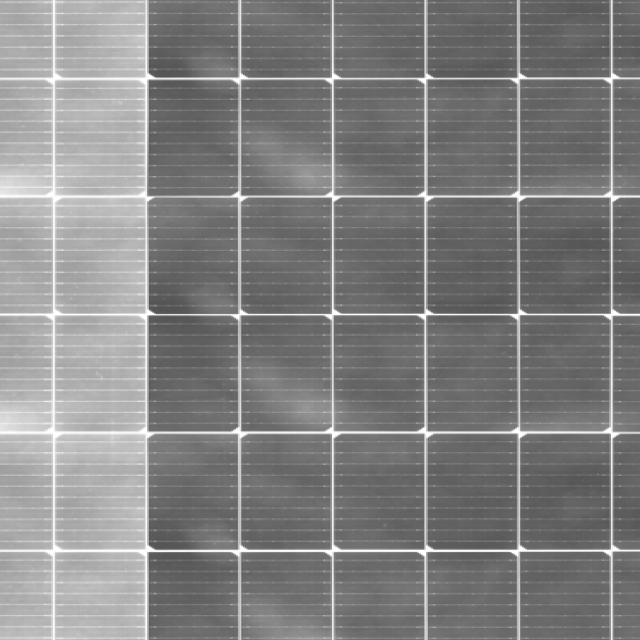CORRECT: (12, 2, 635, 640), (72, 58, 620, 606)
